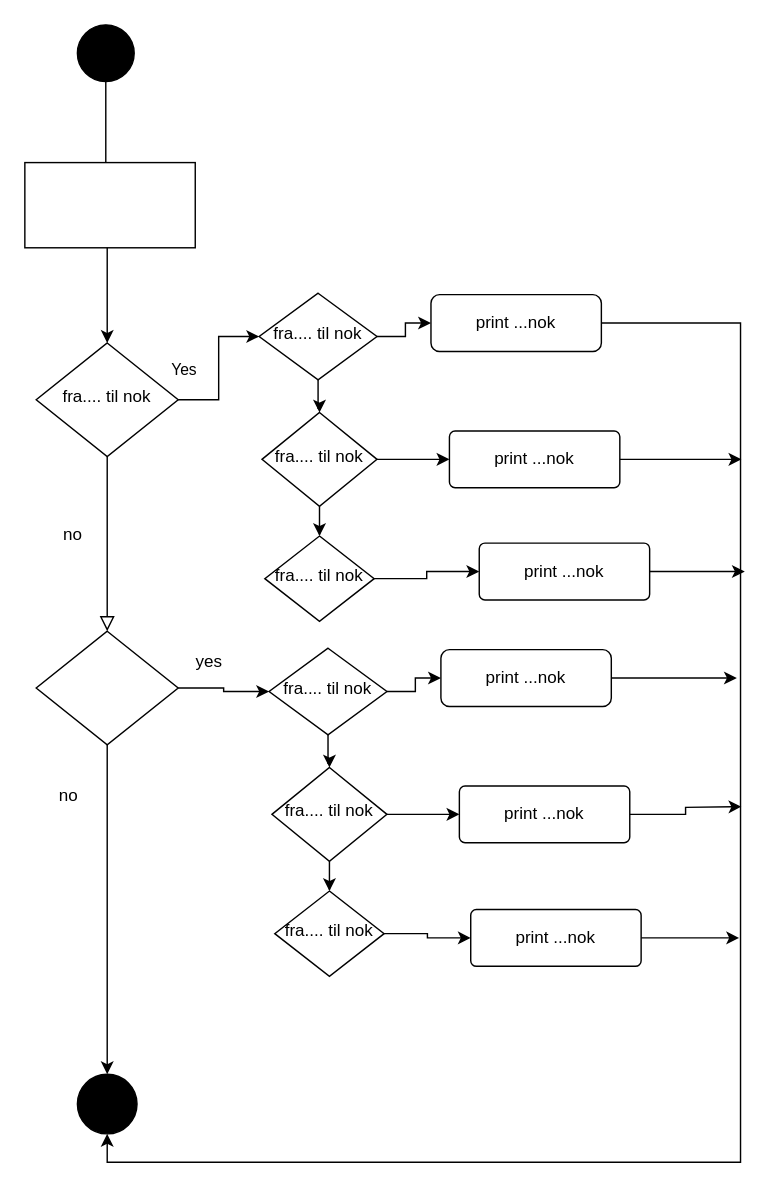
The diagram is 781 pixels wide and 1198 high, and some of its shapes have lost their labels. The centre of each missing label's shape, as x and y in pixels:
"conversion to nok eller motsatt" goes at point 109,204.
"fra nok til ..." goes at point 106,687.
